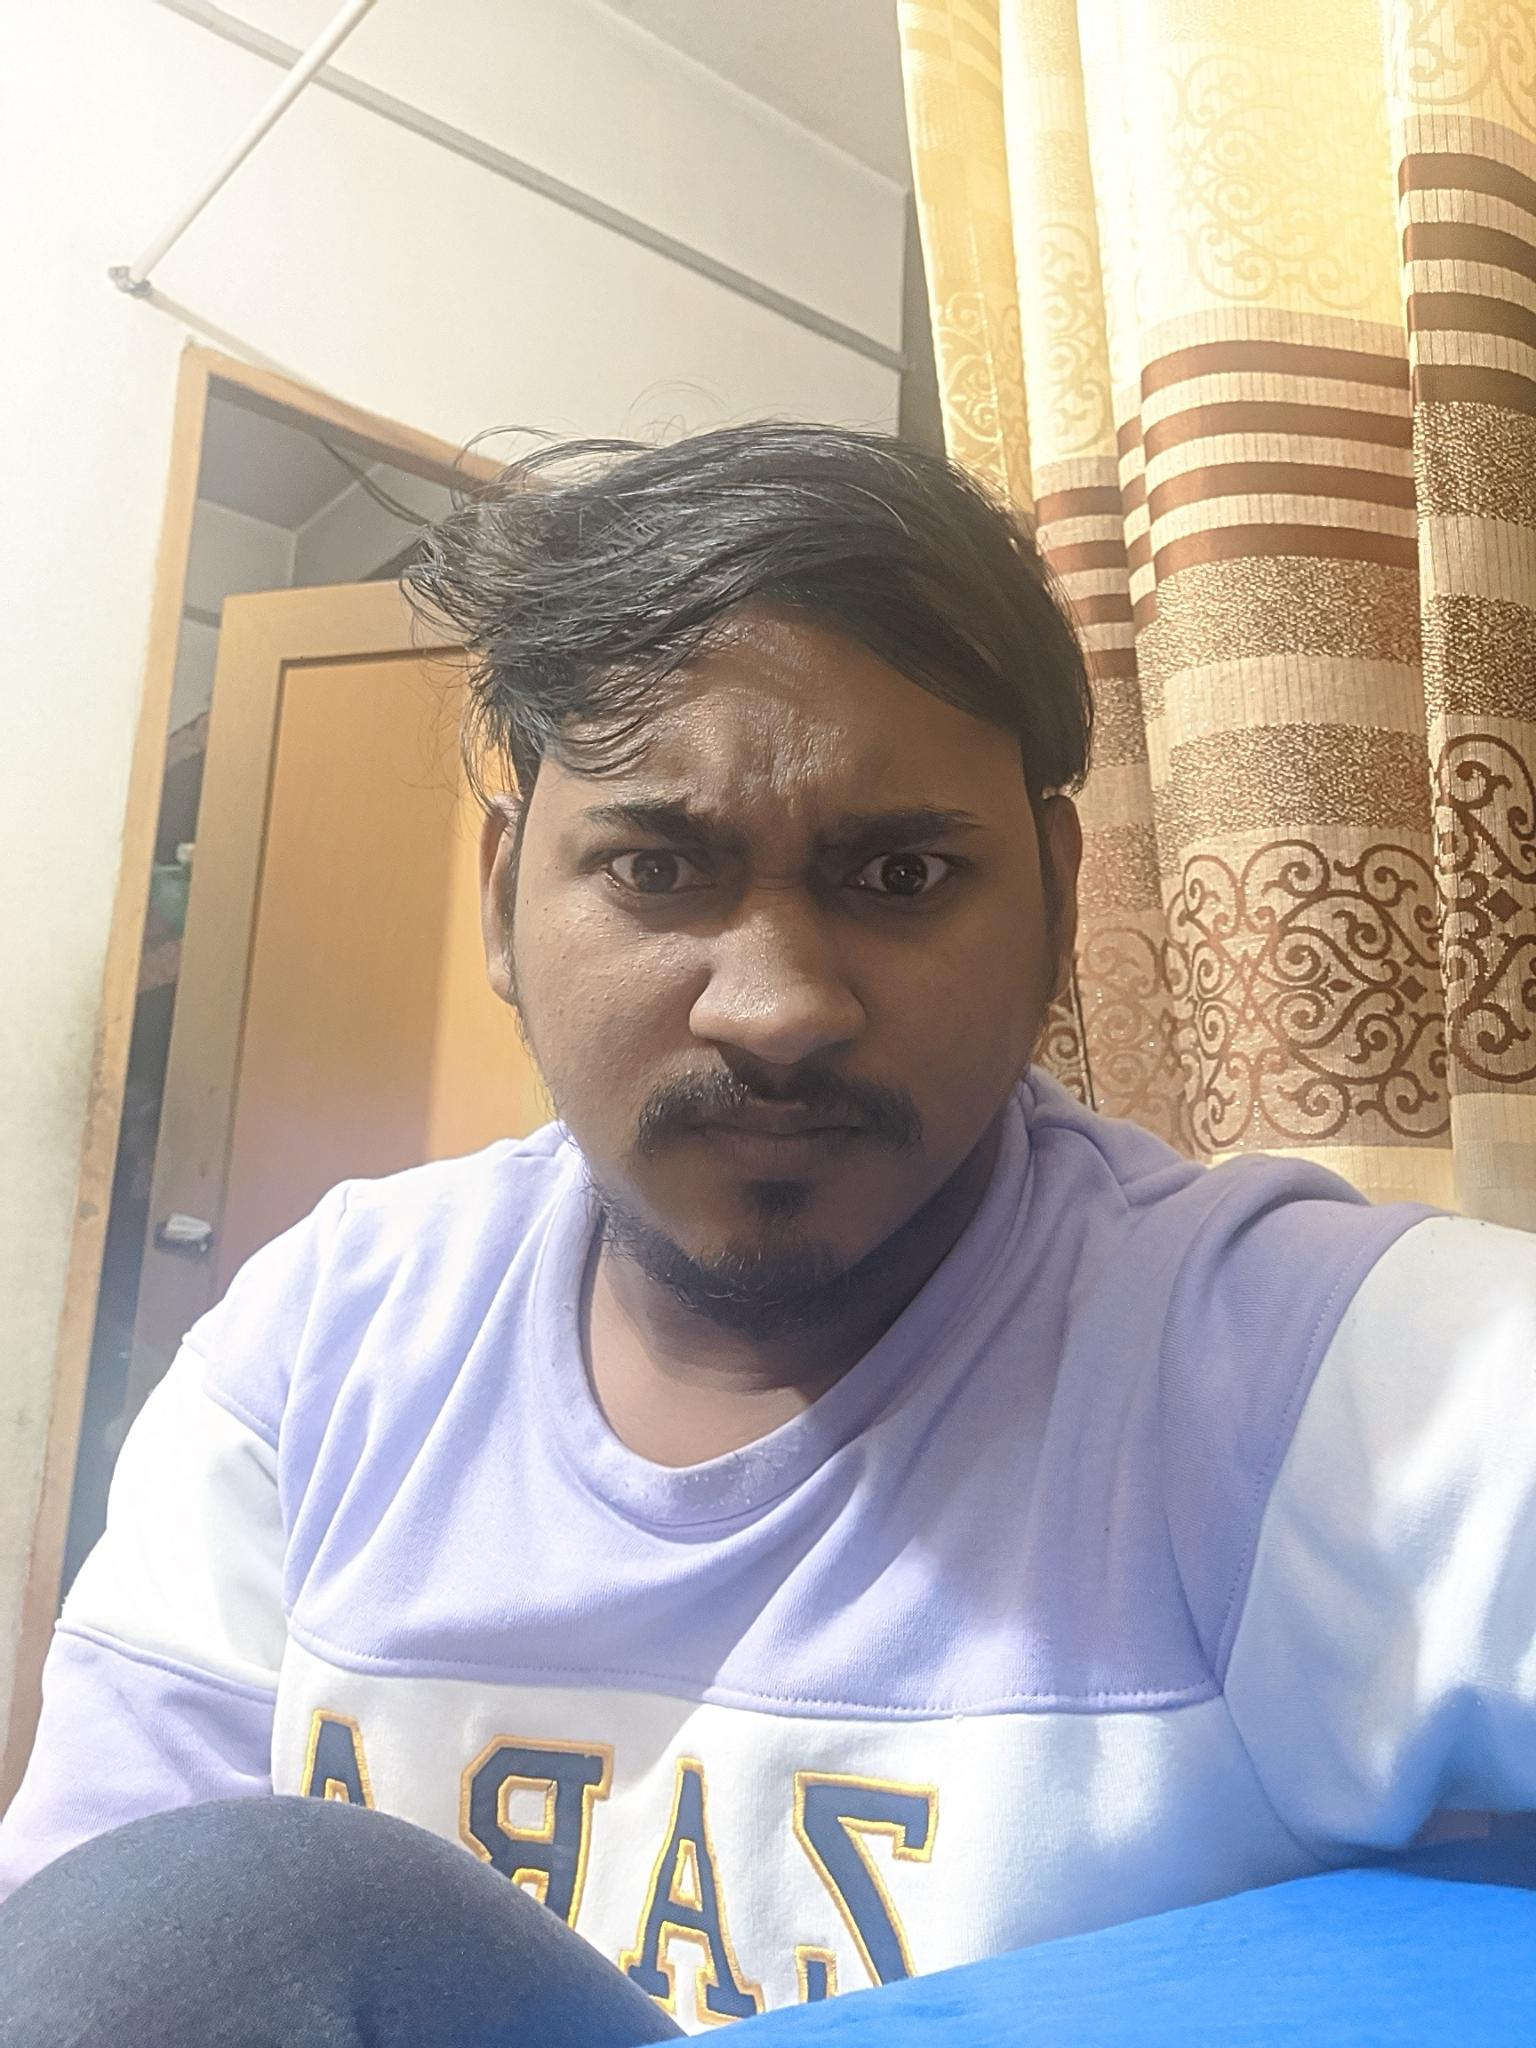Angry: (515, 645, 1058, 1311)
